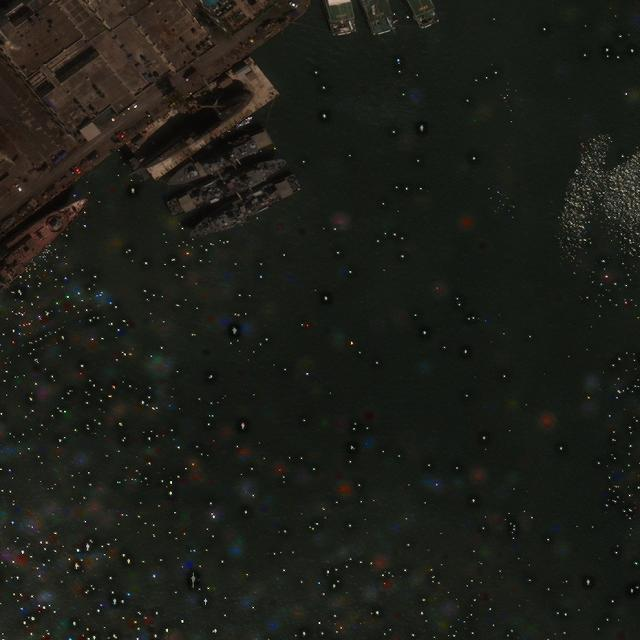Other Warship: (1, 199, 81, 345), (166, 149, 292, 226), (182, 173, 306, 248), (162, 126, 277, 198)
